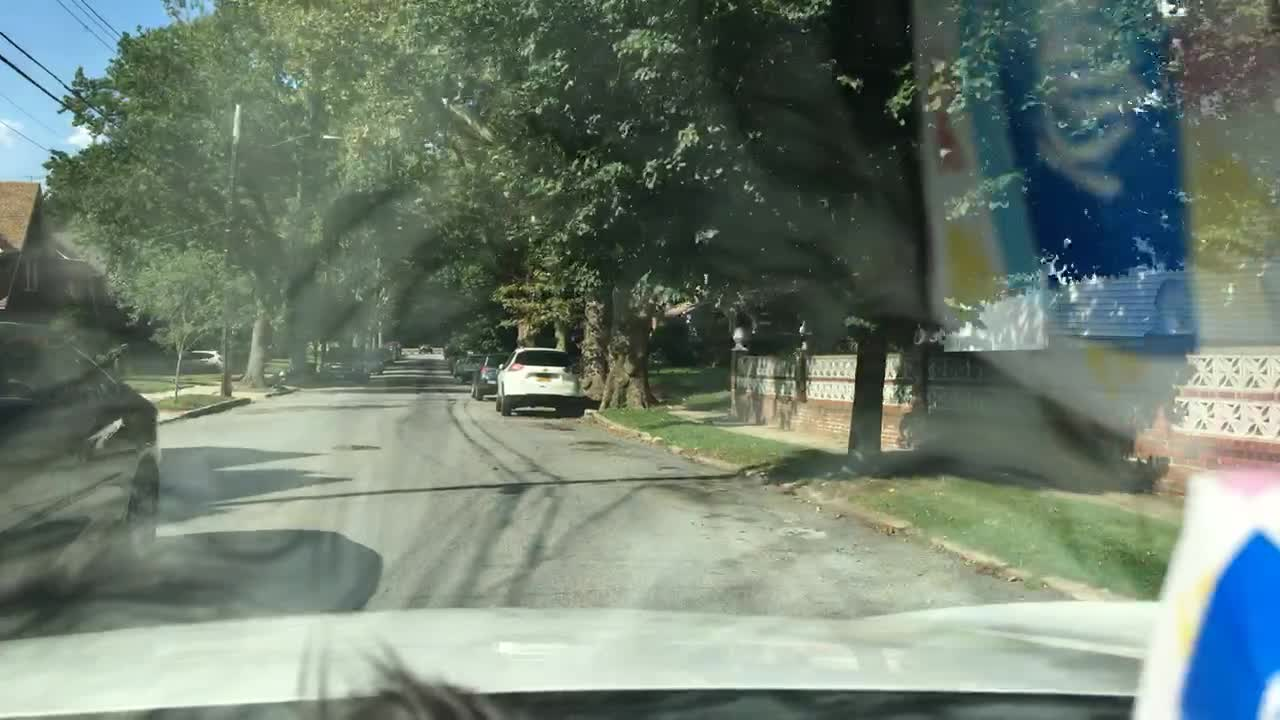car: (0, 318, 163, 605), (647, 320, 794, 372), (495, 346, 581, 415), (464, 351, 512, 400), (181, 347, 221, 373), (453, 353, 481, 382), (417, 343, 432, 355)
